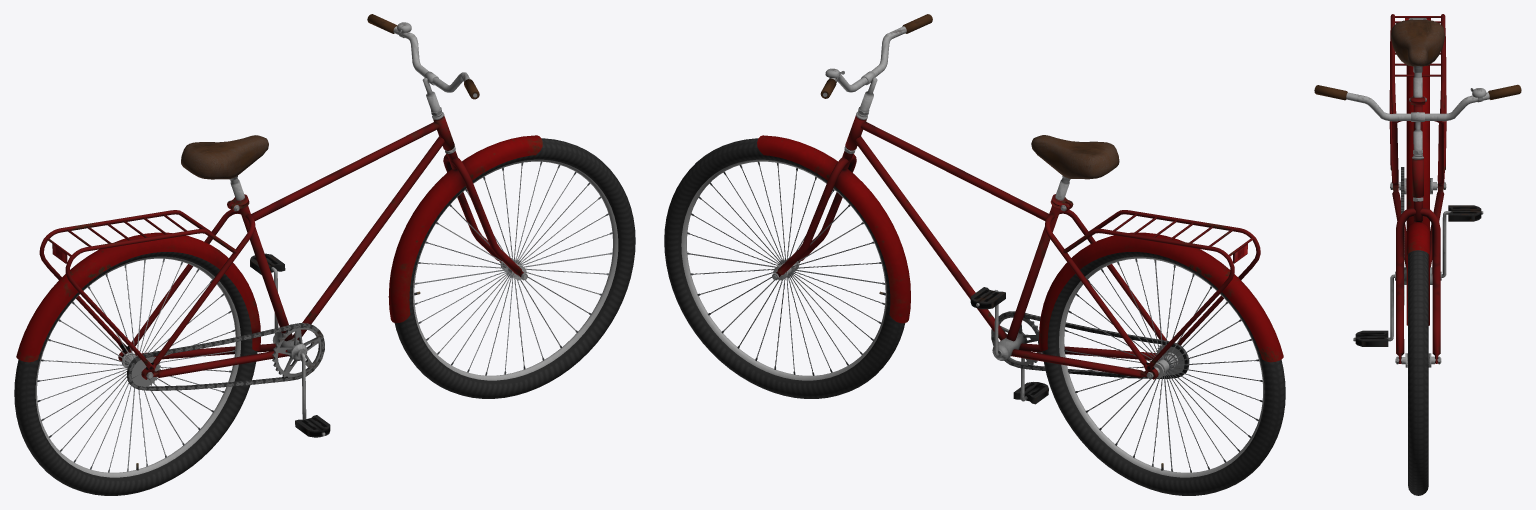
The model's file is old_red_bicycle.glb.
3 views of the same model, side by side, from view 1: azimuth 30°, elevation 25°; view 2: azimuth 150°, elevation 25°; view 3: azimuth 270°, elevation 25° (orthographic). The views are drawn at different scales.
Parts seen in each view (by area): view 1: bicycle; view 2: bicycle; view 3: bicycle.
Boxes of the visible parts, x1,y1,x2,y2 form: bicycle: (14,14,635,495); bicycle: (664,14,1285,495); bicycle: (1314,14,1521,495).
Size of the model in its own units: 1.91 by 1.1 by 0.569.
1 material, 1 textured.
